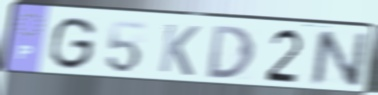2: (264, 28, 307, 85)
5: (104, 18, 149, 74)
D: (206, 23, 257, 80)
G: (47, 16, 99, 72)
K: (156, 21, 203, 78)
N: (309, 29, 372, 89)
